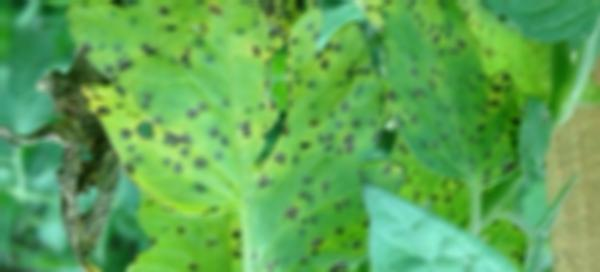Tomato Septoria leaf spot: (62, 0, 397, 267), (384, 0, 557, 193)
